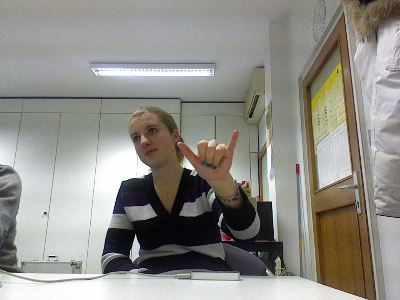六六六: (175, 128, 239, 181)
